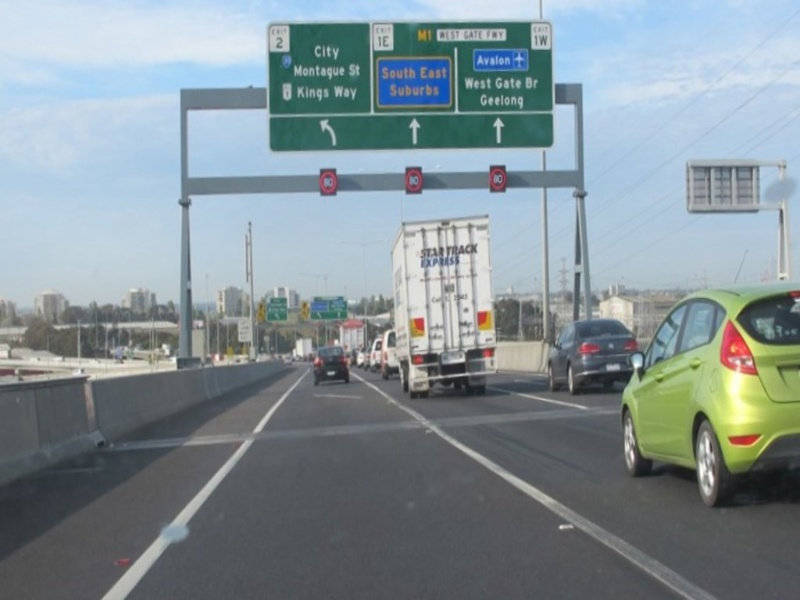left_turn_ahead: (317, 117, 341, 149)
speed_limit_80: (319, 170, 339, 193), (405, 167, 423, 191), (489, 169, 507, 190)
straight_direction: (489, 116, 508, 145), (407, 116, 424, 147)
